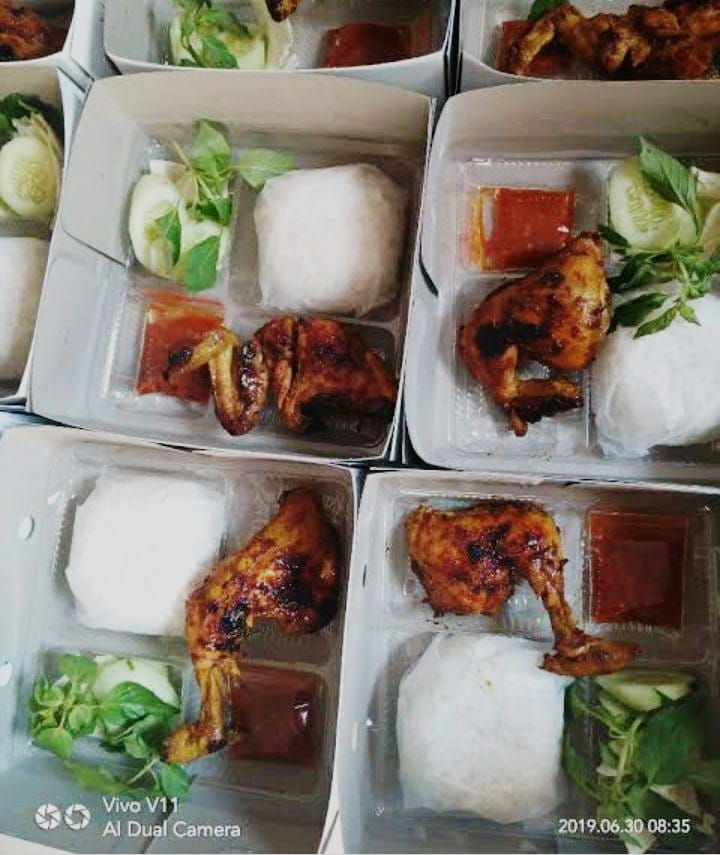buah_sayur_lainnya: (597, 696, 680, 825), (621, 168, 710, 267), (145, 170, 224, 279), (61, 660, 160, 742), (602, 521, 667, 610), (244, 679, 312, 747), (478, 191, 555, 248), (148, 326, 171, 375)
daging: (411, 510, 554, 595), (261, 324, 378, 398), (496, 286, 582, 372), (231, 545, 319, 629)
makanan_berpati: (435, 640, 516, 791), (263, 181, 383, 282), (104, 487, 195, 598), (620, 348, 704, 425)
